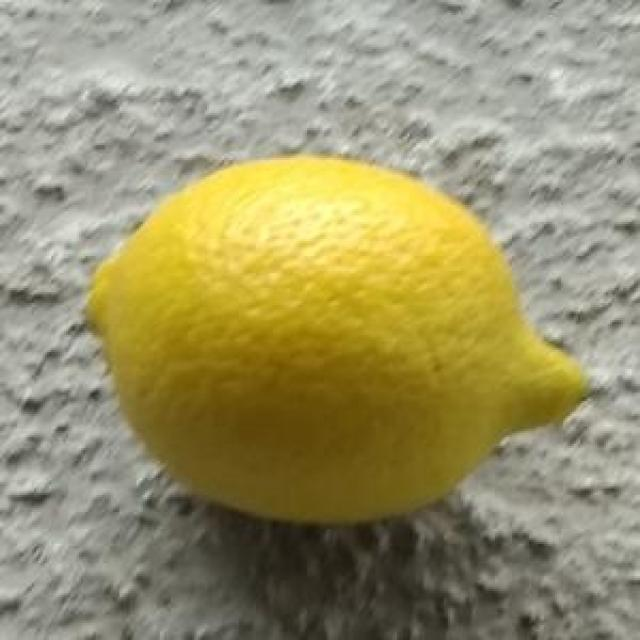lemon: (82, 153, 593, 520)
